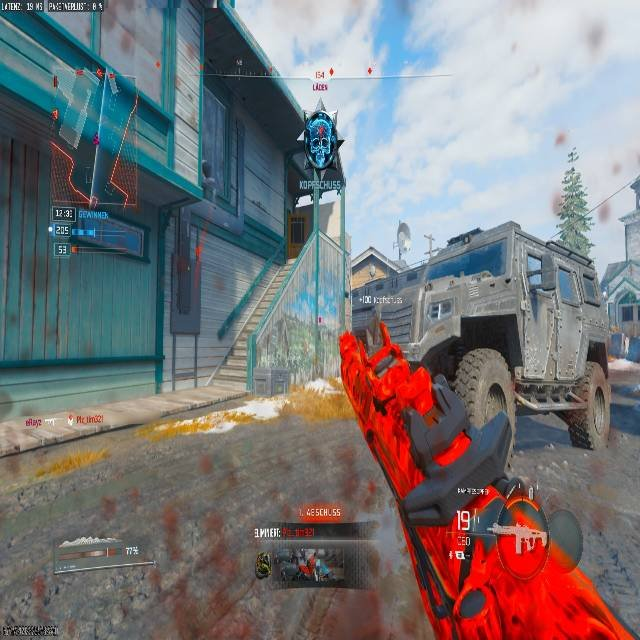player: (280, 103, 346, 232)
